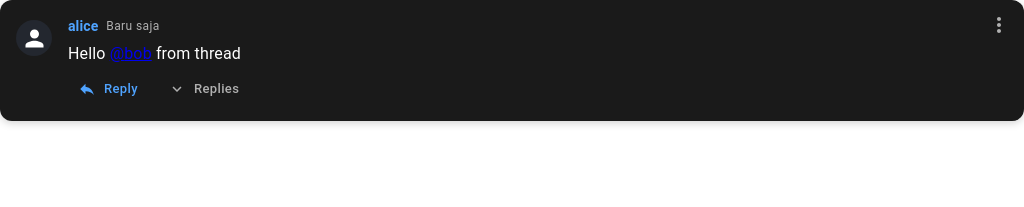
CommentItem › edits a comment and shows (edited) timestamp
// Open menu
Click the 1st button at {"x": 999, "y": 25}, box [982, 8, 1016, 42]
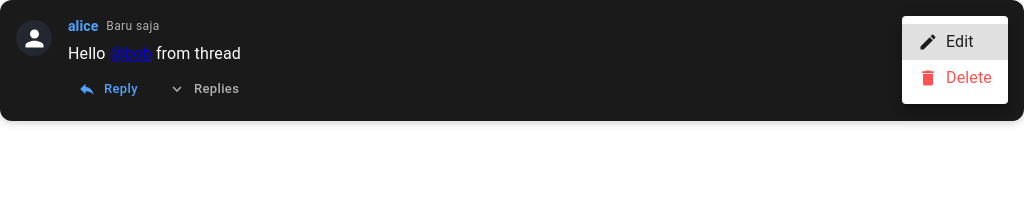
// Choose Edit
Click the menu item "Edit" at {"x": 955, "y": 42}, box [902, 24, 1008, 60]
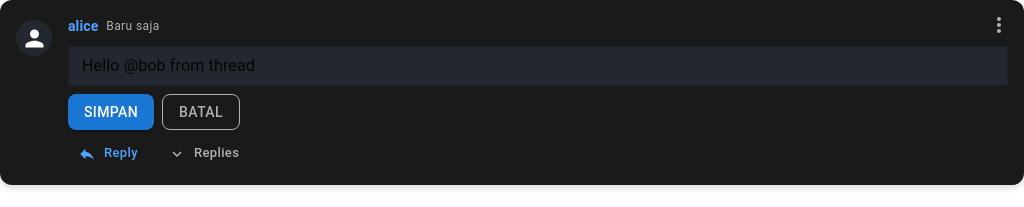
Replace the text in the text box with "Edited content" at {"x": 538, "y": 66}, box [82, 54, 994, 78]
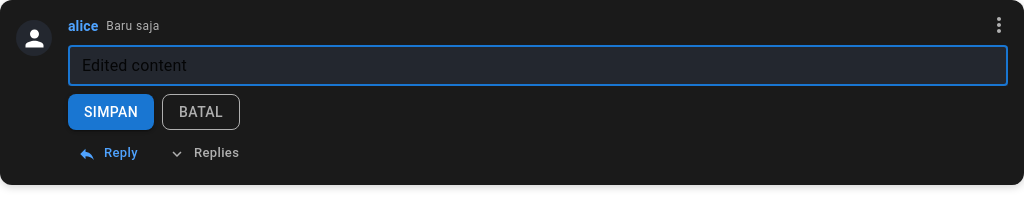
// Click Simpan
Click the button "Simpan" at {"x": 111, "y": 112}, box [68, 94, 154, 130]
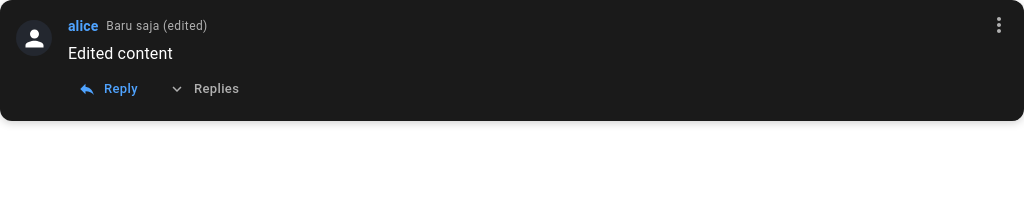
Expected: the text "Edited content" is shown, [68, 44, 173, 63]
